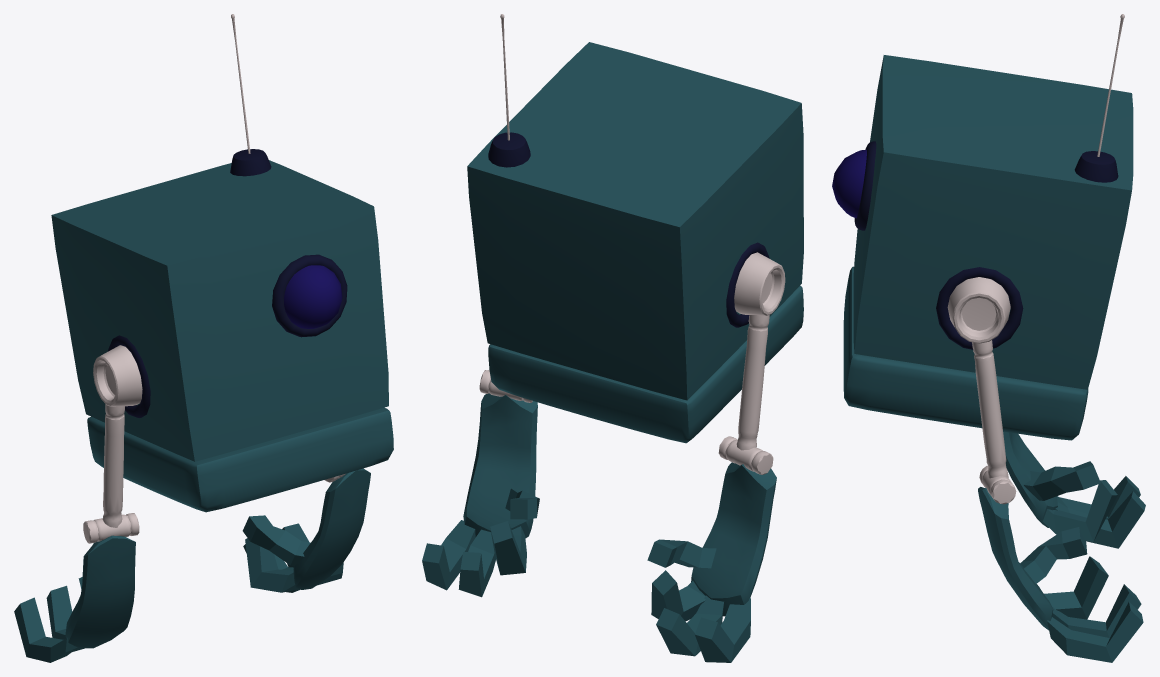
Rendered from Bot_low.fbx.
The picture shows the model from 3 angles, left to right: view 1: azimuth 30°, elevation 25°; view 2: azimuth 150°, elevation 25°; view 3: azimuth 270°, elevation 25°; orthographic projection. The views are drawn at different scales.
Parts seen in each view (by area): view 1: MId.002, Cube.001, Plane.045, Plane.040, Sphere.004, Cylinder.030, Cylinder.031, Torus.006, Plane.059, Plane.051, Plane.052, Cylinder.033 (+3 smaller); view 2: MId.002, Cube.001, Plane.040, Plane.045, Cylinder.031, Cylinder.030, Plane.059, Plane.053, Plane.058, Plane.054, Plane.057, Plane.052 (+5 smaller); view 3: MId.002, Cube.001, Cylinder.036, Plane.040, Cylinder.035, Plane.053, Torus.008, Plane.045, Plane.052, Plane.056, Plane.057, Plane.051 (+7 smaller).
Part boxes in pixels (x1,y1,x2,y2): MId.002: [51, 160, 388, 461]; Cube.001: [87, 407, 393, 512]; Plane.045: [65, 535, 135, 648]; Plane.040: [293, 468, 370, 589]; Sphere.004: [284, 265, 342, 328]; Cylinder.030: [93, 345, 142, 406]; Cylinder.031: [102, 404, 124, 527]; Torus.006: [272, 254, 347, 337]; Plane.059: [14, 597, 77, 662]; Plane.051: [242, 515, 310, 566]; Plane.052: [245, 538, 299, 592]; Cylinder.033: [83, 513, 139, 543]; MId.002: [467, 42, 803, 400]; Cube.001: [488, 286, 803, 443]; Plane.040: [463, 393, 537, 538]; Plane.045: [691, 462, 776, 616]; Cylinder.031: [736, 314, 769, 450]; Cylinder.030: [734, 252, 785, 315]; Plane.059: [694, 598, 750, 662]; Plane.053: [422, 520, 475, 590]; Plane.058: [656, 595, 723, 656]; Plane.054: [458, 529, 495, 597]; Plane.057: [651, 570, 705, 621]; Plane.052: [490, 521, 526, 575]; MId.002: [853, 55, 1133, 389]; Cube.001: [843, 266, 1088, 440]; Cylinder.036: [947, 277, 1010, 343]; Plane.040: [978, 487, 1053, 630]; Cylinder.035: [972, 340, 1008, 478]; Plane.053: [1047, 602, 1143, 662]; Torus.008: [936, 267, 1023, 349]; Plane.045: [1003, 431, 1057, 527]; Plane.052: [1044, 556, 1108, 619]; Plane.056: [1023, 461, 1100, 500]; Plane.057: [1042, 480, 1117, 541]; Plane.051: [1020, 527, 1087, 583].
Bounding box in the file's own units: 300 × 565 × 259.
